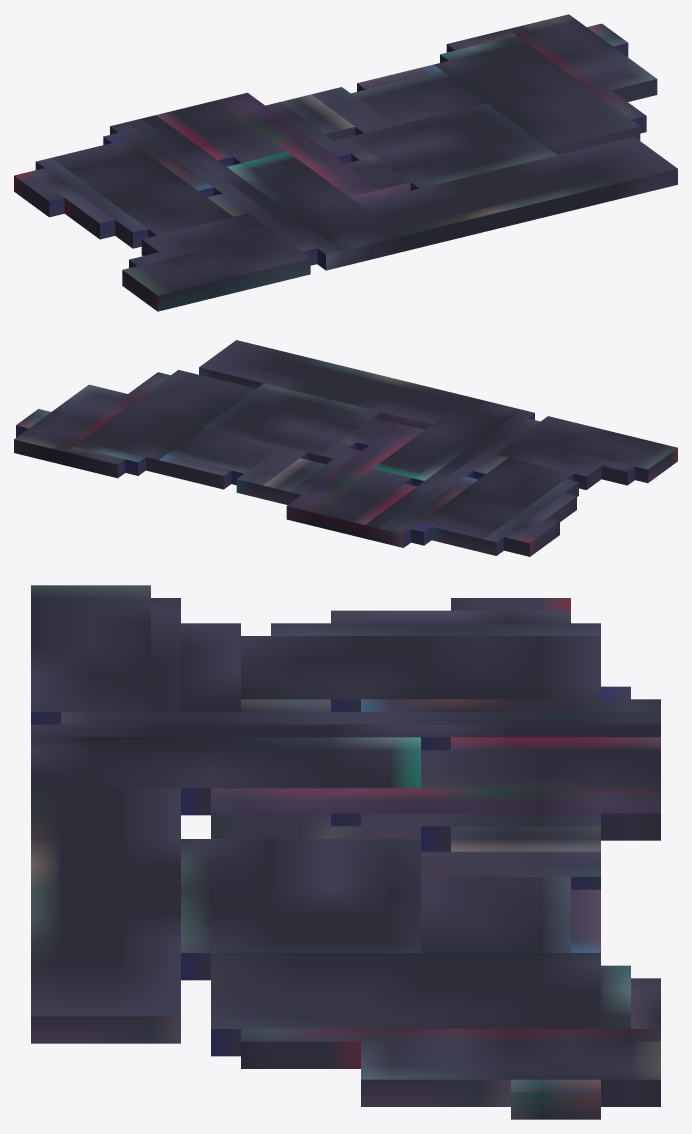
File: BillboardModule_ChineseSymbol_D_00.fbx
3 views of the same model, one above another, from view 1: azimuth 30°, elevation 25°; view 2: azimuth 150°, elevation 25°; view 3: azimuth 270°, elevation 25° (orthographic). The views are drawn at different scales.
Parts seen in each view (by area): view 1: BillboardModule_ChineseSymbol_D_00; view 2: BillboardModule_ChineseSymbol_D_00; view 3: BillboardModule_ChineseSymbol_D_00.
Part boxes in pixels (x1,y1,x2,y2): BillboardModule_ChineseSymbol_D_00: (14,14,677,311); BillboardModule_ChineseSymbol_D_00: (14,340,677,556); BillboardModule_ChineseSymbol_D_00: (31,585,660,1119).
Bounding box in the file's own units: 200 × 5 × 105.
